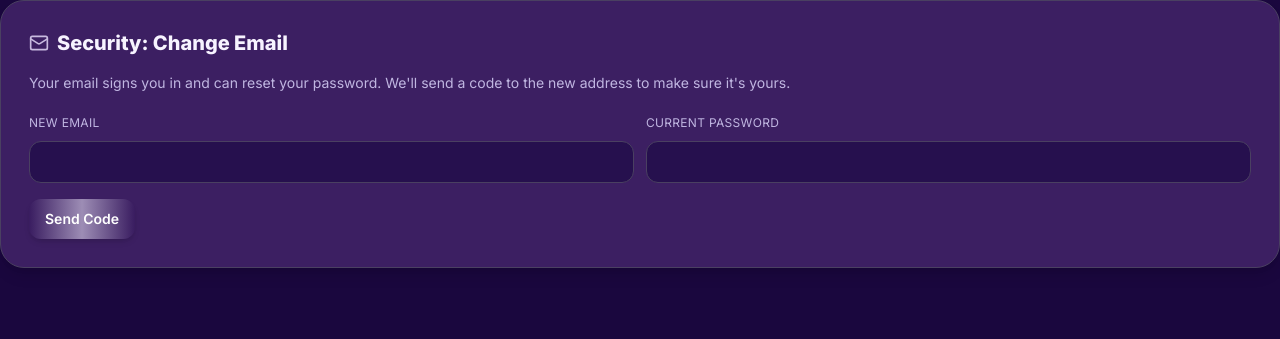
it: changing the email › shows why the code was not sent
Type "taken@example.com" into the field labelled "New Email" at {"x": 332, "y": 162}, box [29,141,634,183]
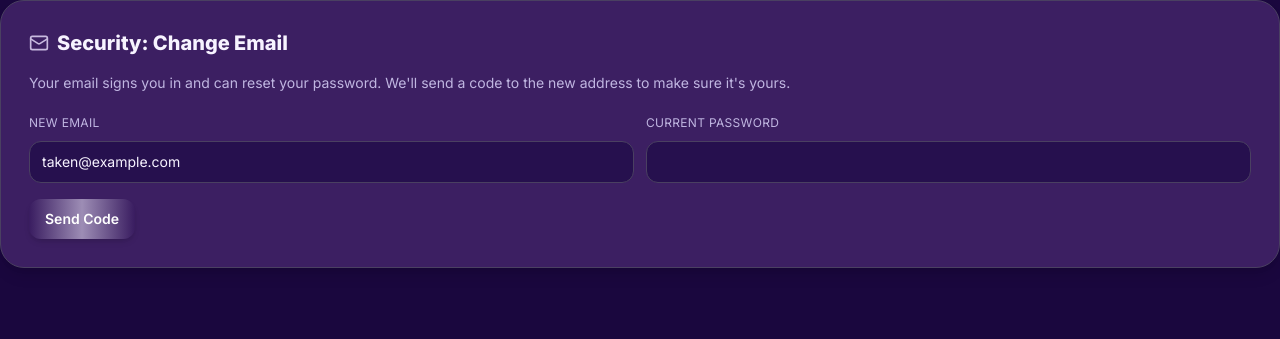
Type "Secret123" into the password field labelled "Current Password" at {"x": 948, "y": 162}, box [646,141,1251,183]
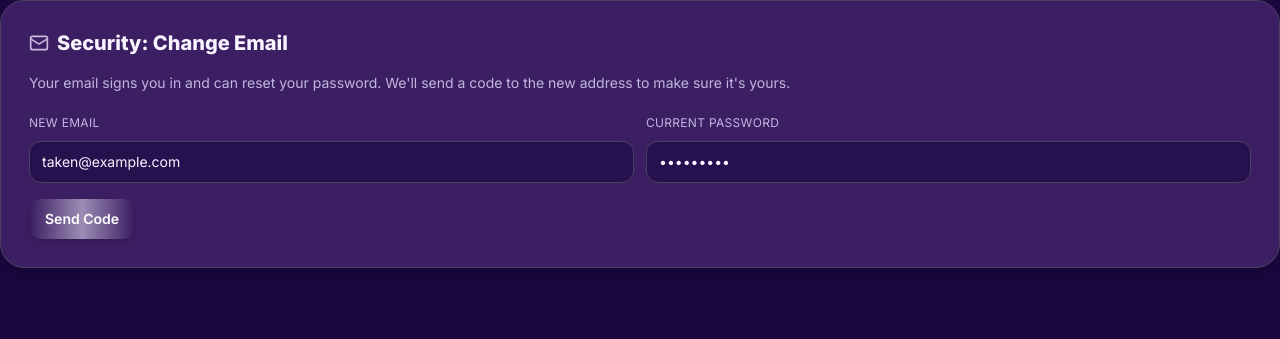
Click the button "Send Code" at {"x": 82, "y": 219}, box [29,199,135,239]
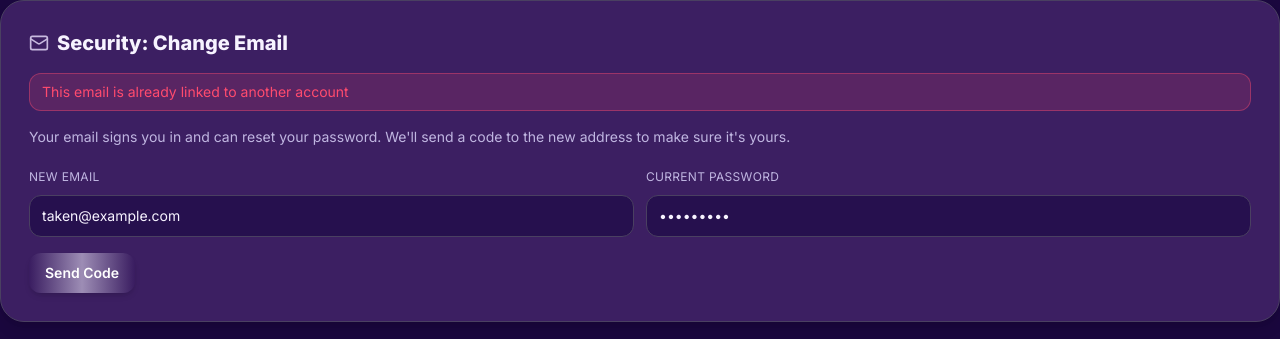
Expected: the message reads "This email is already linked to another account", [42,83,349,100]
